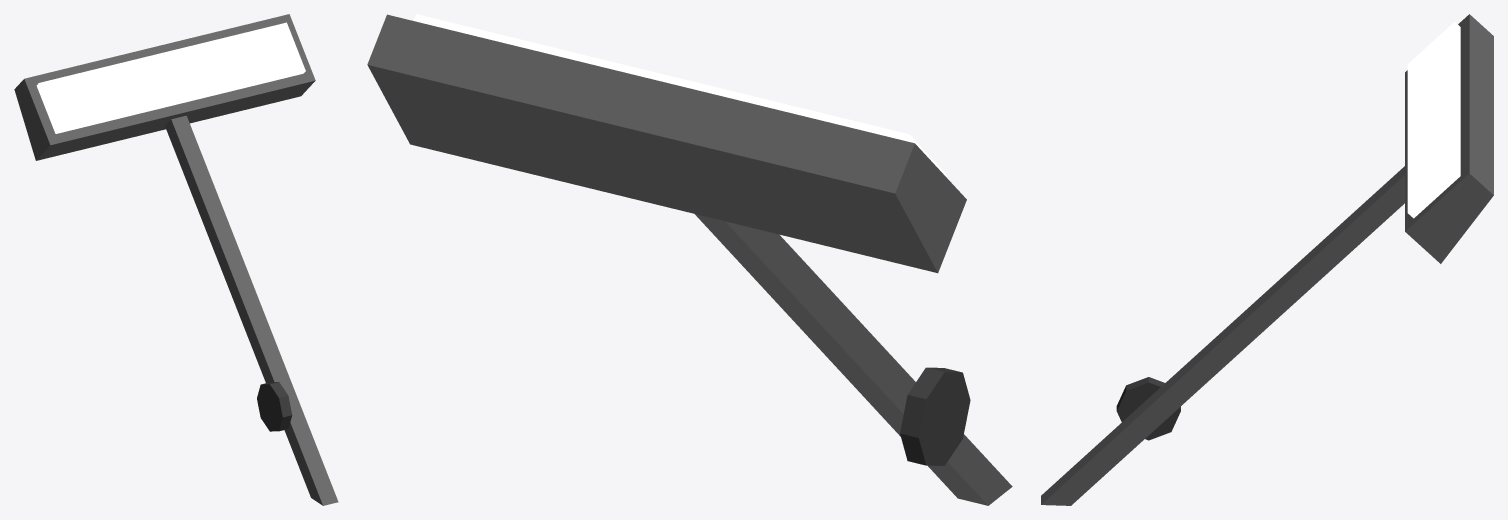
File: Table_Lamp_1_Ac.glb
3 views of the same model, side by side, from view 1: azimuth 30°, elevation 25°; view 2: azimuth 150°, elevation 25°; view 3: azimuth 270°, elevation 25° (orthographic). The views are drawn at different scales.
Parts seen in each view (by area): view 1: Table Lamp 1 Ac; view 2: Table Lamp 1 Ac; view 3: Table Lamp 1 Ac.
Boxes of the visible parts, x1=… form: Table Lamp 1 Ac: x1=14, y1=14, x2=338, y2=505; Table Lamp 1 Ac: x1=367, y1=14, x2=1012, y2=505; Table Lamp 1 Ac: x1=1041, y1=14, x2=1493, y2=505.
Bounding box in the file's own units: 0.1494 × 0.1782 × 0.1794.
2 materials, 1 textured.
